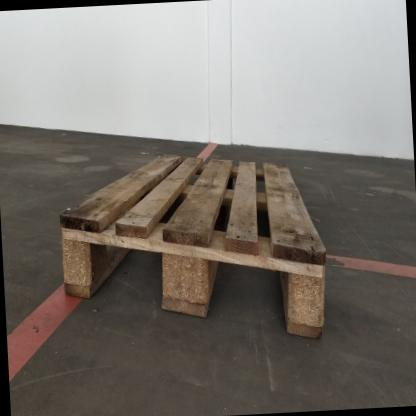BoxFace: (55, 151, 329, 344)
